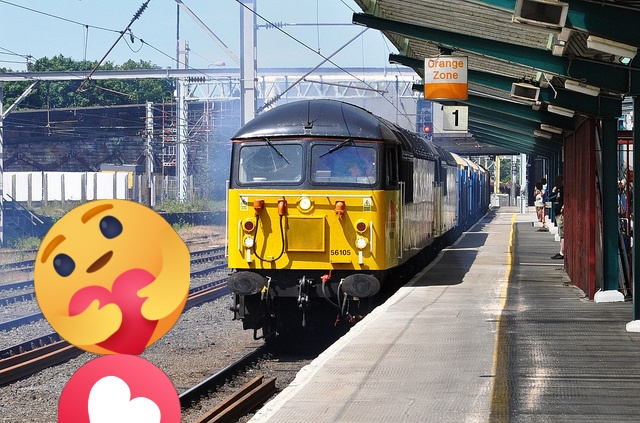care: (34, 199, 190, 355)
love: (58, 354, 181, 423)
